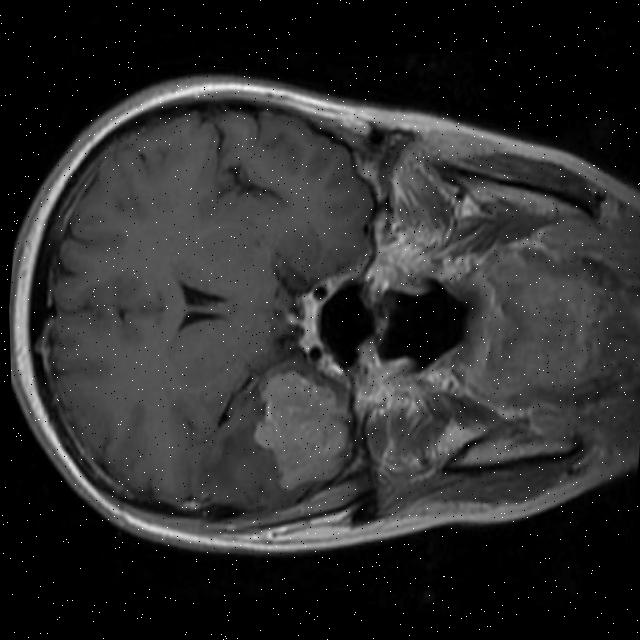Meningioma: (244, 361, 360, 497)
